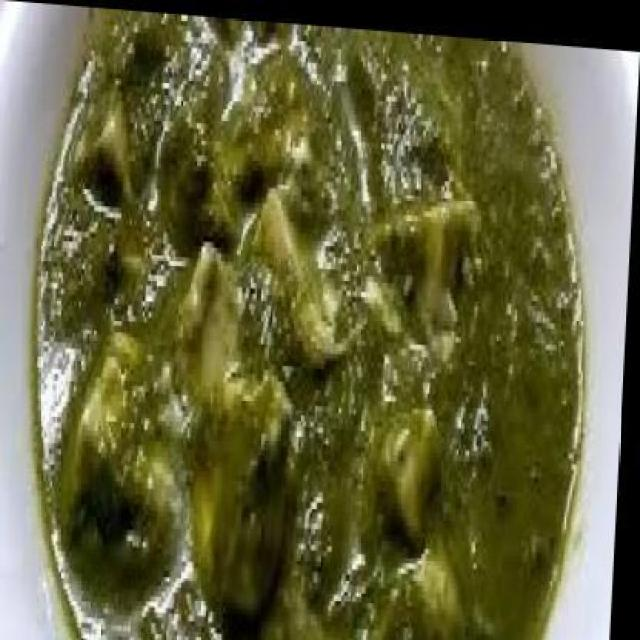palak_paneer: (26, 3, 602, 640)
